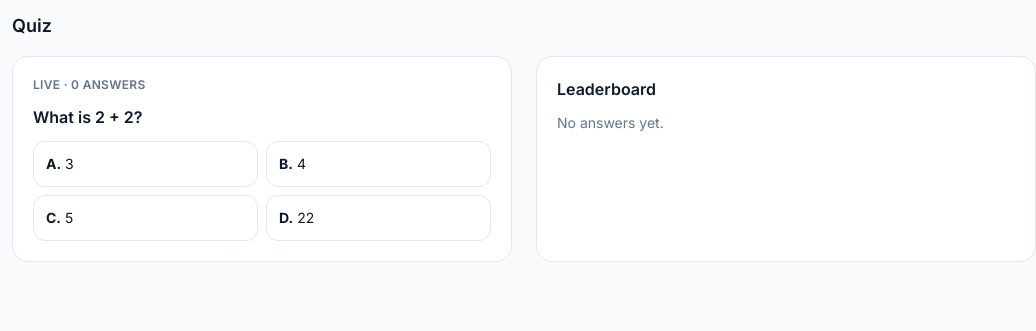
Scenario: QuizPanel › disables every option once a student has answered
Click the button "B. 4" at (378, 164), box [266,141,491,187]
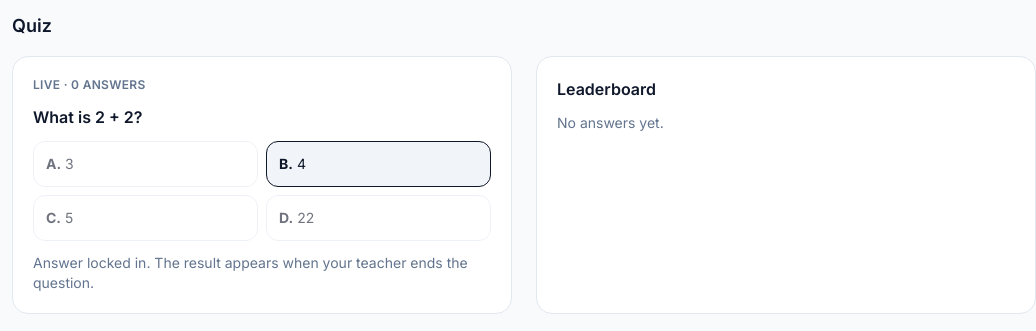
Expected: the text "Answer locked in" is shown, [33,254,468,291]
Expected: the button "A. 3" is disabled, [33,141,258,187]
Expected: the button "C. 5" is disabled, [33,195,258,241]
